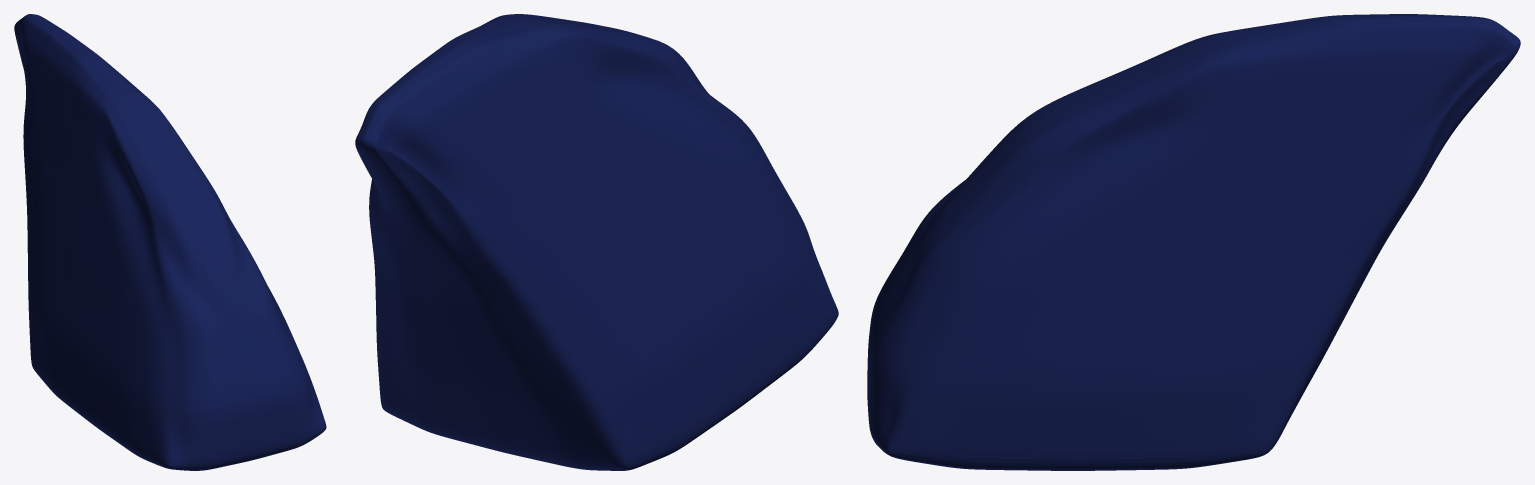
File: sharkfin.fbx
3 renders of one model, left to right at view 1: azimuth 30°, elevation 25°; view 2: azimuth 150°, elevation 25°; view 3: azimuth 270°, elevation 25°, orthographic. The views are drawn at different scales.
Parts seen in each view (by area): view 1: Cube; view 2: Cube; view 3: Cube.
Boxes of the visible parts, <box> form: Cube: <box>14,14,326,470</box>; Cube: <box>355,14,838,470</box>; Cube: <box>867,14,1520,470</box>.
Size of the model in its own units: 118 by 199 by 280.
